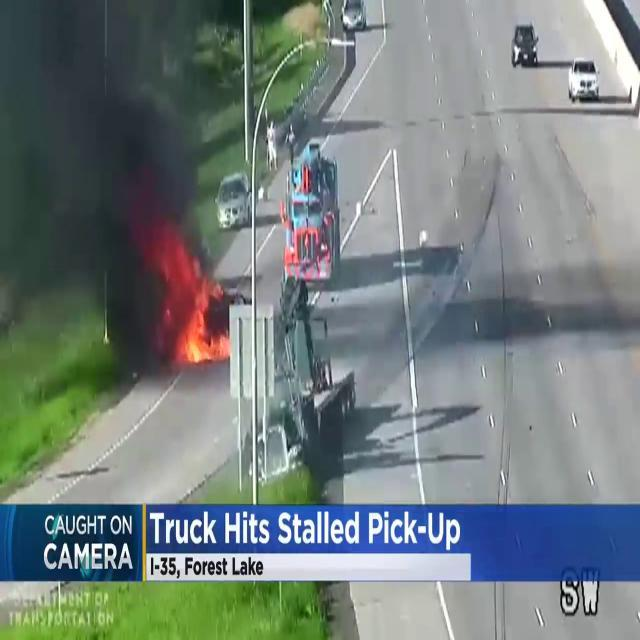Fire: (180, 287, 224, 367)
Smoke: (0, 1, 214, 358)
